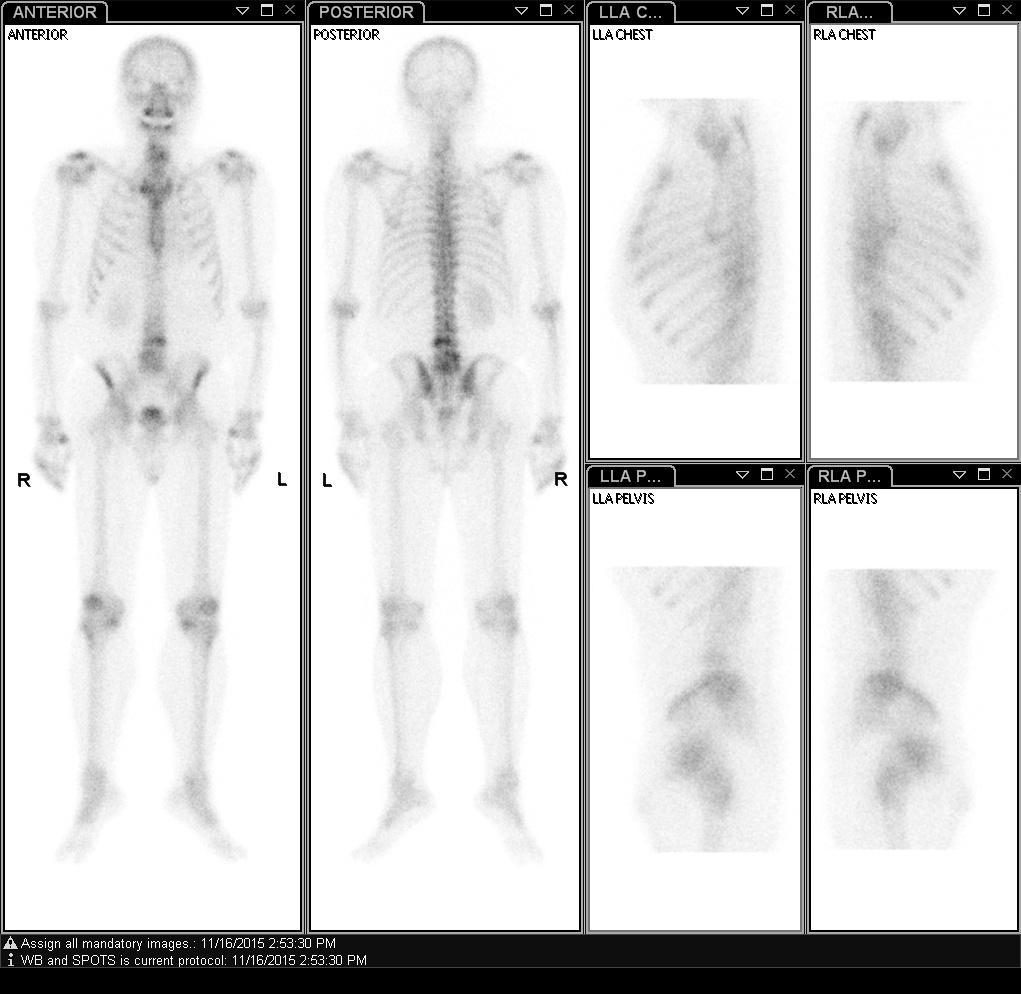person: (3, 23, 580, 931)
